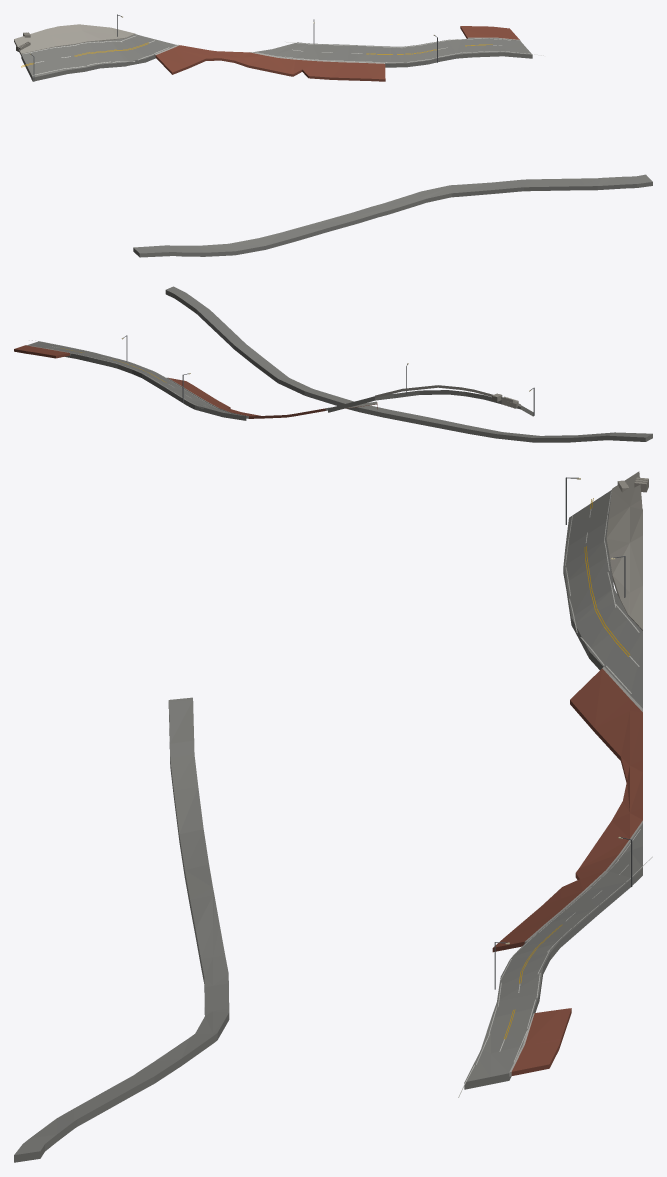
3 renders of one model, top to bottom at view 1: azimuth 30°, elevation 25°; view 2: azimuth 150°, elevation 25°; view 3: azimuth 270°, elevation 25°, orthographic. The views are drawn at different scales.
Bounding box in the file's own units: 152 × 46.68 × 91.98.
